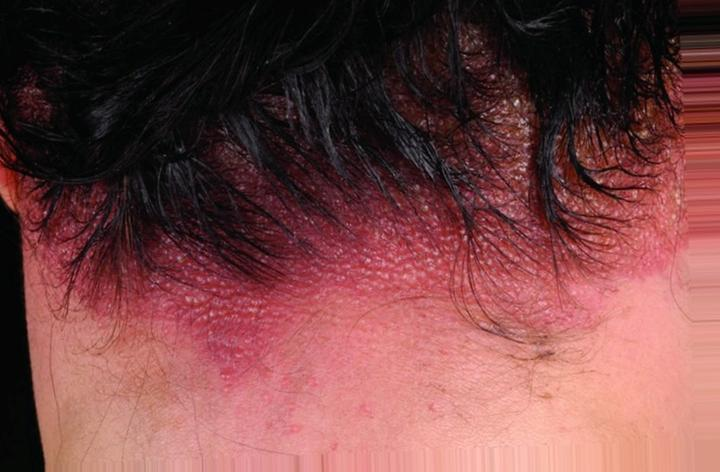Contact Dermatitis: (71, 89, 633, 328)
